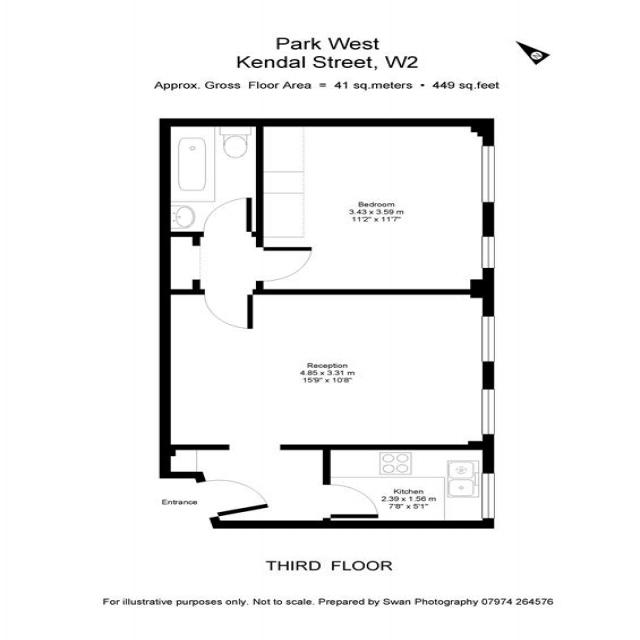DOOR: (195, 479, 273, 520), (255, 246, 315, 284), (202, 288, 255, 331), (201, 196, 254, 238), (321, 483, 381, 520)
ROOM: (159, 289, 495, 451), (255, 118, 495, 295), (323, 441, 495, 529)
WINDOW: (480, 144, 495, 204), (480, 316, 496, 363), (480, 388, 496, 435), (480, 472, 496, 519), (480, 235, 496, 269)
